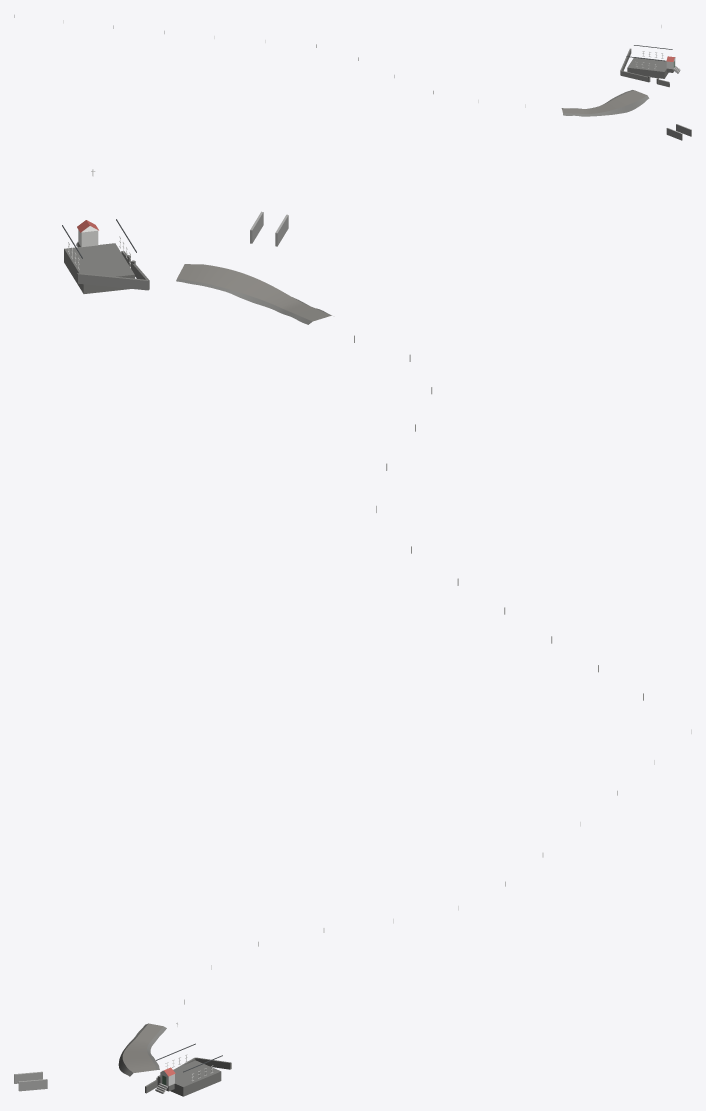
The model's file is ChurchArea.fbx.
3 renders of one model, top to bottom at view 1: azimuth 30°, elevation 25°; view 2: azimuth 150°, elevation 25°; view 3: azimuth 270°, elevation 25°, orthographic. The views are drawn at different scales.
Visible parts, largest first — view 1: ChurchForecourt, ChurchDetail, ChurchyardWallAndProps; view 2: ChurchForecourt, ChurchDetail, ChurchyardWallAndProps; view 3: ChurchDetail, ChurchForecourt, ChurchyardWallAndProps.
Part boxes in pixels (left/top/right/bottom): ChurchForecourt: left=561, top=90, right=649, bottom=116; ChurchDetail: left=626, top=25, right=680, bottom=78; ChurchyardWallAndProps: left=14, top=14, right=691, bottom=140; ChurchForecourt: left=176, top=264, right=331, bottom=324; ChurchDetail: left=62, top=169, right=136, bottom=293; ChurchyardWallAndProps: left=77, top=211, right=643, bottom=700; ChurchDetail: left=155, top=1022, right=222, bottom=1096; ChurchForecourt: left=118, top=1023, right=166, bottom=1076; ChurchyardWallAndProps: left=14, top=729, right=691, bottom=1093.
Bounding box in the file's own units: 181 × 23.15 × 162.
